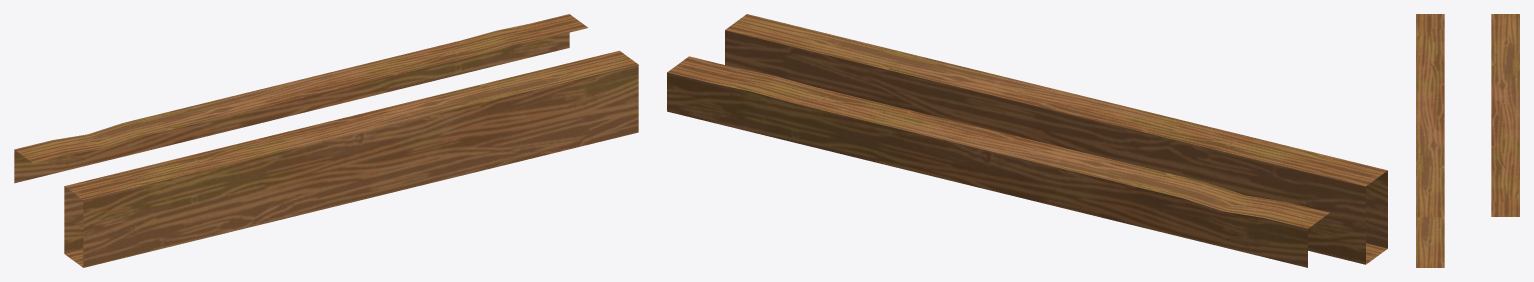
File: wall_bottom_trim.glb
The picture shows the model from 3 angles, left to right: view 1: azimuth 30°, elevation 25°; view 2: azimuth 150°, elevation 25°; view 3: azimuth 270°, elevation 25°; orthographic projection. The views are drawn at different scales.
Visible parts, largest first — view 1: Wall_BottomCover; view 2: Wall_BottomCover; view 3: Wall_BottomCover.
Boxes of the visible parts, bbox=[...] form: Wall_BottomCover: bbox=[14, 14, 638, 267]; Wall_BottomCover: bbox=[667, 14, 1387, 267]; Wall_BottomCover: bbox=[1416, 14, 1519, 267].
Size of the model in its own units: 2 by 0.2376 by 0.4317.
1 material, 1 textured.
